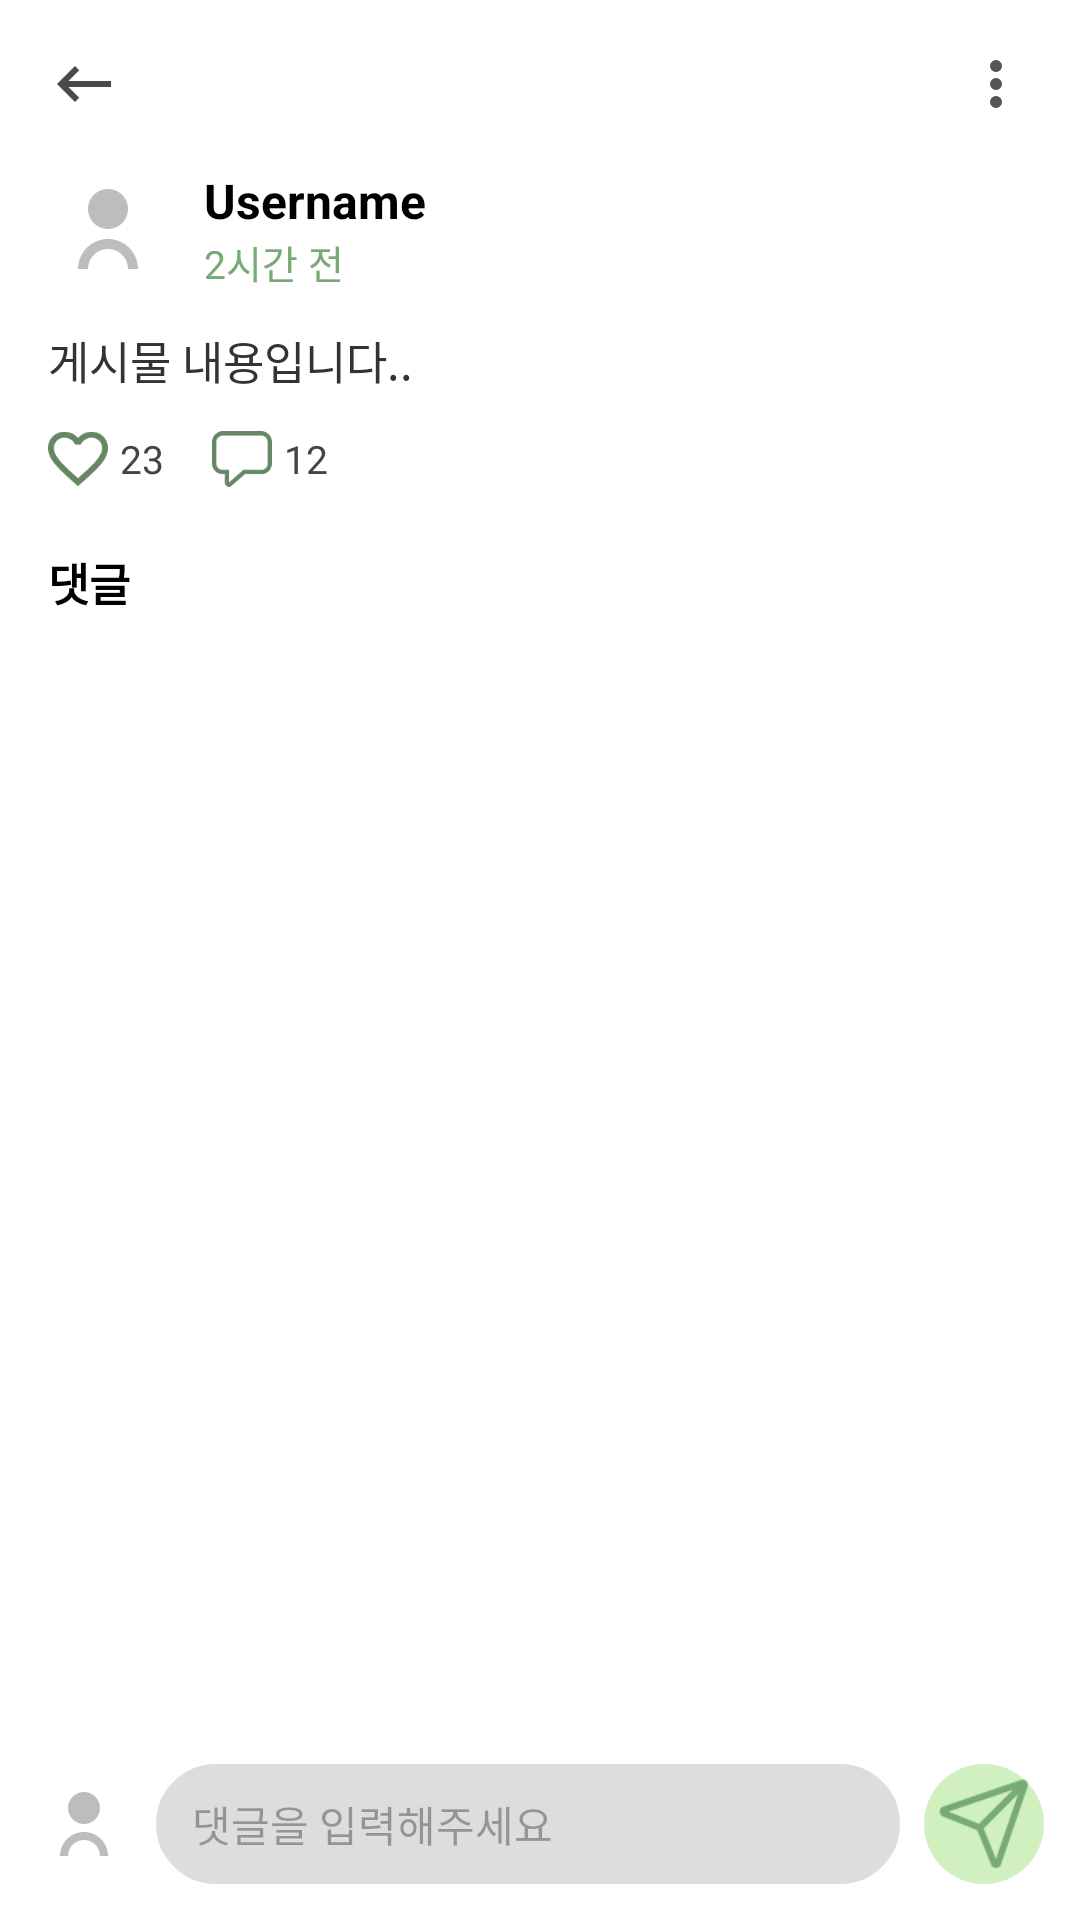

Where icons sit on this 1080px x 1920px app screen, as (x1, y1, x2, y2):
back: (57, 66, 111, 102)
comment: (212, 431, 272, 487)
heart: (48, 432, 108, 486)
more vert: (990, 60, 1002, 108)
댓글 전송: (924, 1764, 1044, 1884)
